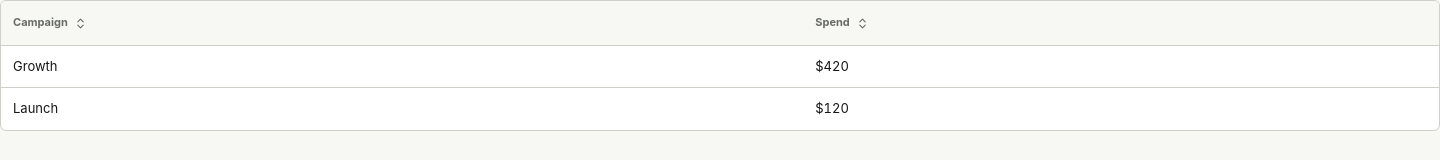
DataTable › sorts rows by sortable column in both directions
Step 1. Click the button "Spend" → (842, 23), box [815,9,869,37]
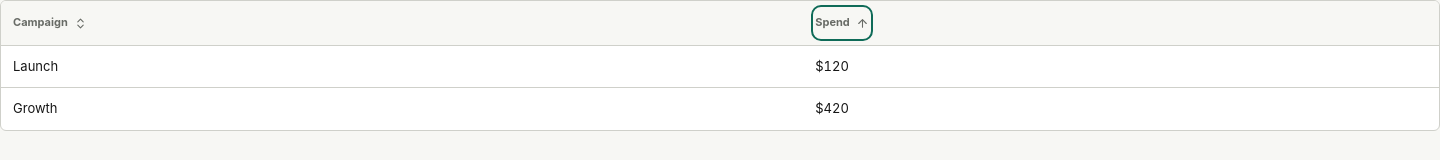
Result: the column heading "Spend" has attribute aria-sort="ascending" at [803,1,1439,46]
Step 2. Click the button "Spend" → (842, 23), box [815,9,869,37]
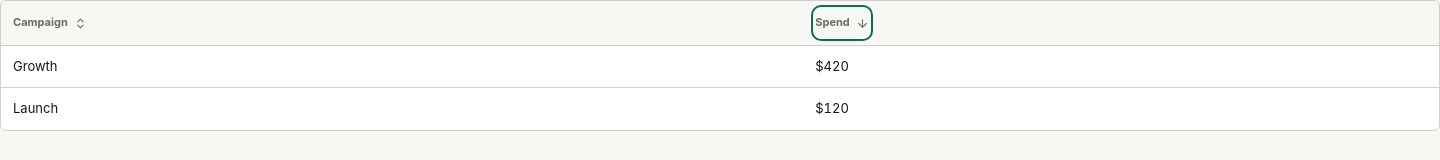
Result: the column heading "Spend" has attribute aria-sort="descending" at [803,1,1439,46]
